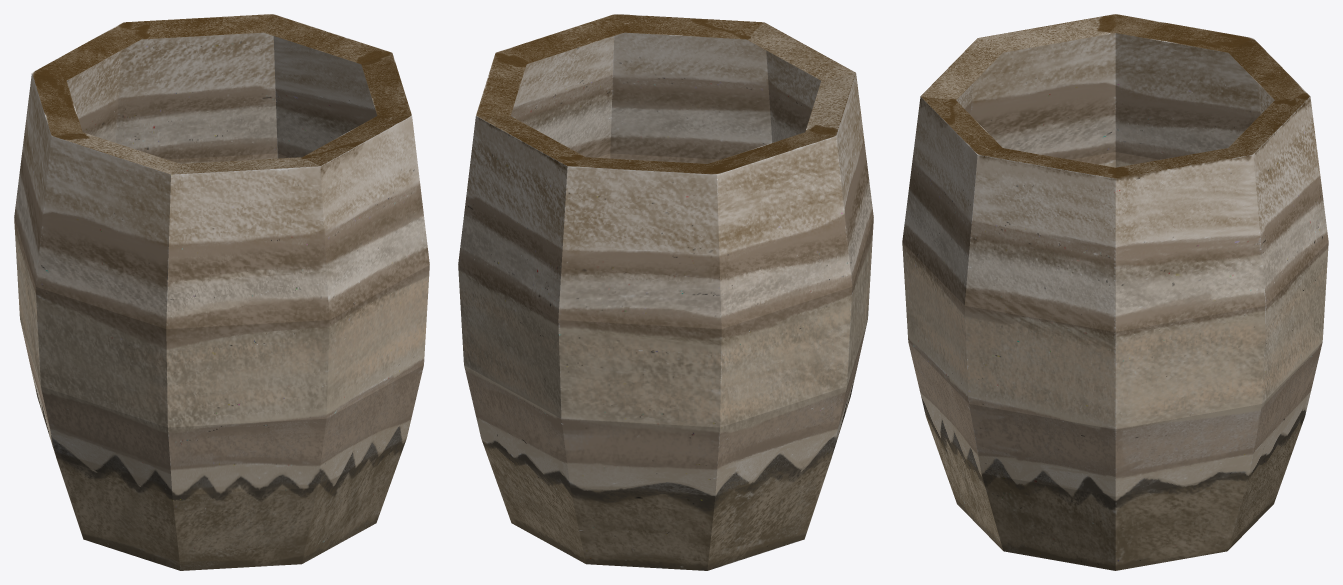
Rendered from Mochila inventario .fbx.
3 renders of one model, left to right at view 1: azimuth 30°, elevation 25°; view 2: azimuth 150°, elevation 25°; view 3: azimuth 270°, elevation 25°, orthographic.
Parts seen in each view (by area): view 1: mochila; view 2: mochila; view 3: mochila.
Part boxes in pixels (box(x1,y1,x2,y2)): mochila: box(14, 14, 429, 570); mochila: box(458, 14, 873, 570); mochila: box(902, 14, 1328, 570).
Size of the model in its own units: 249 by 263 by 249.
1 material, 1 textured.
